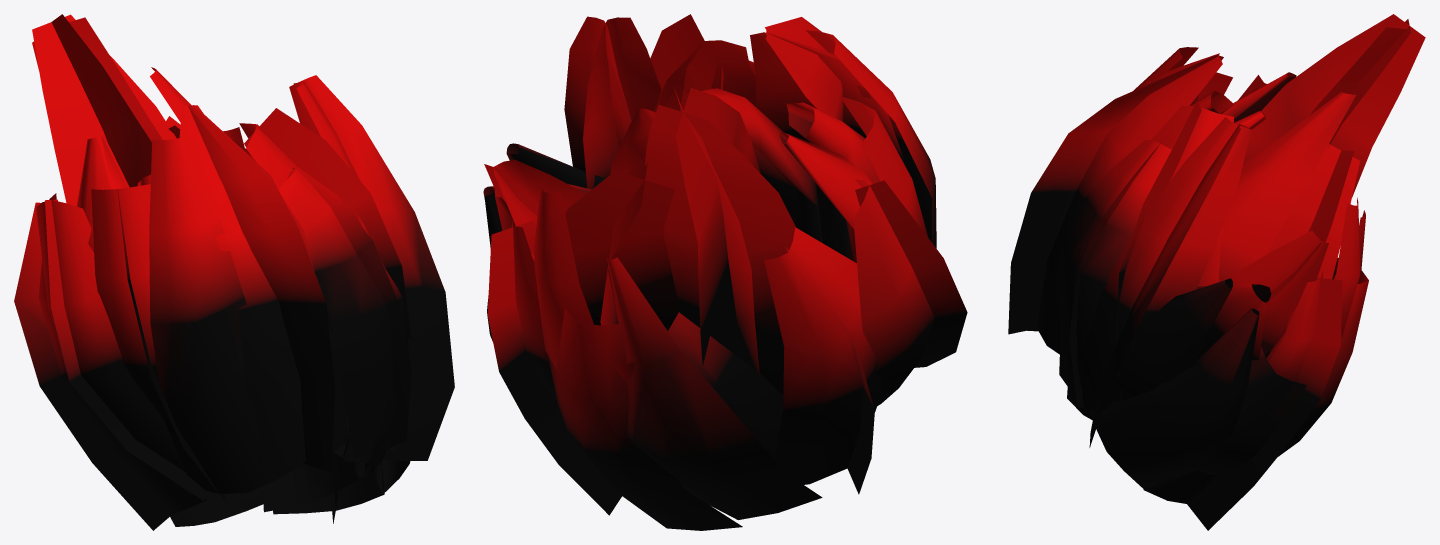
The model's file is Hair_P2_02.fbx.
3 renders of one model, left to right at view 1: azimuth 30°, elevation 25°; view 2: azimuth 150°, elevation 25°; view 3: azimuth 270°, elevation 25°, orthographic. The views are drawn at different scales.
Parts seen in each view (by area): view 1: Plane.012; view 2: Plane.012; view 3: Plane.012.
Boxes of the visible parts, x1,y1,x2,y2 form: Plane.012: (14,14,454,530); Plane.012: (483,14,967,530); Plane.012: (1008,14,1425,530).
Size of the model in its own units: 287 by 356 by 305.
